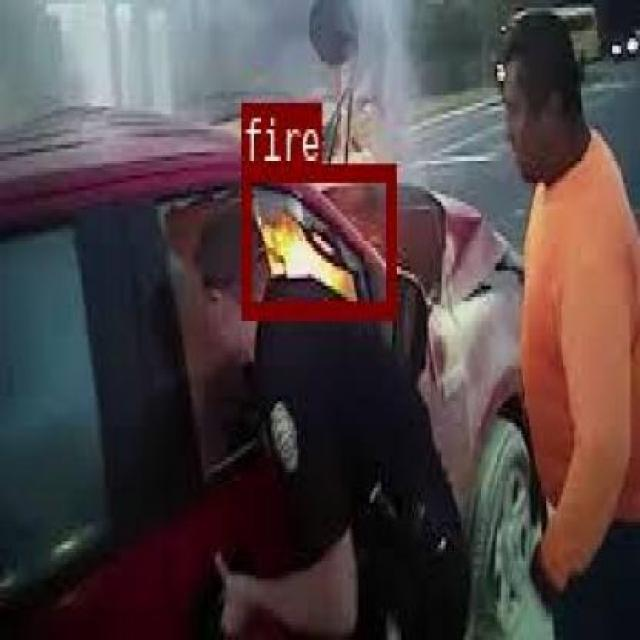Fire: (240, 162, 396, 315)
